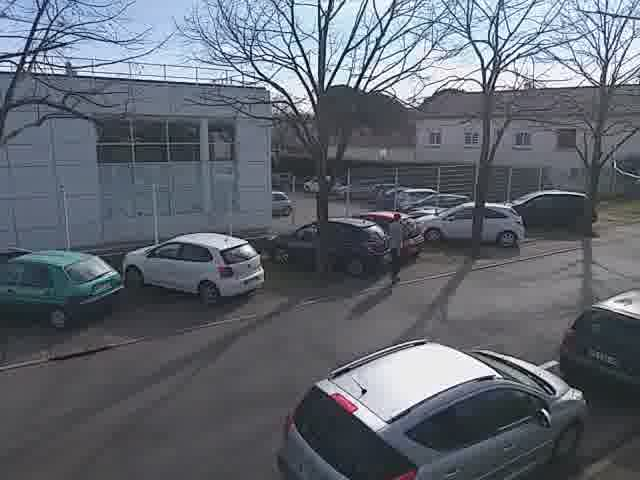persona: (375, 200, 413, 285)
